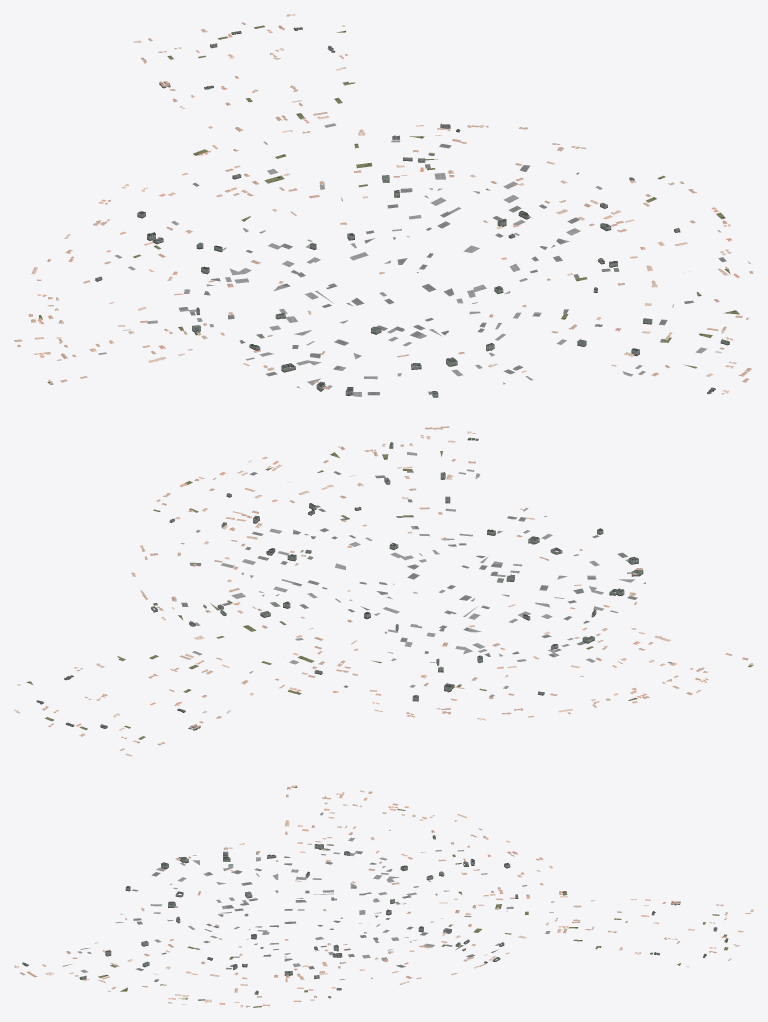
The model's file is city_3d_model_18.glb.
3 renders of one model, top to bottom at view 1: azimuth 30°, elevation 25°; view 2: azimuth 150°, elevation 25°; view 3: azimuth 270°, elevation 25°, orthographic. The views are drawn at different scales.
Visible parts, largest first — view 1: Object_274, Object_270, Object_272, Object_258, Object_256, Object_262, Object_266, Object_276, Object_260, Object_282; view 2: Object_274, Object_270, Object_272, Object_258, Object_262, Object_256, Object_266, Object_282, Object_260; view 3: Object_274, Object_270, Object_272, Object_262, Object_258, Object_260, Object_256, Object_266, Object_282.
Part boxes in pixels (left/top/right/bottom): Object_274: left=98, top=123, right=707, bottom=396; Object_270: left=95, top=27, right=729, bottom=397; Object_272: left=39, top=25, right=739, bottom=384; Object_258: left=190, top=143, right=726, bottom=370; Object_256: left=192, top=188, right=665, bottom=394; Object_262: left=60, top=25, right=751, bottom=382; Object_266: left=28, top=14, right=749, bottom=383; Object_276: left=178, top=164, right=579, bottom=395; Object_260: left=37, top=22, right=749, bottom=389; Object_282: left=31, top=54, right=736, bottom=376; Object_274: left=192, top=452, right=672, bottom=697; Object_270: left=36, top=437, right=643, bottom=730; Object_272: left=26, top=451, right=753, bottom=739; Object_258: left=180, top=471, right=596, bottom=687; Object_262: left=41, top=427, right=748, bottom=745; Object_256: left=257, top=470, right=637, bottom=645; Object_266: left=14, top=443, right=753, bottom=736; Object_282: left=96, top=435, right=654, bottom=720; Object_260: left=48, top=426, right=704, bottom=743; Object_274: left=77, top=812, right=553, bottom=980; Object_270: left=22, top=835, right=728, bottom=994; Object_272: left=62, top=786, right=728, bottom=1007; Object_262: left=31, top=787, right=723, bottom=1007; Object_258: left=135, top=853, right=527, bottom=1000; Object_260: left=19, top=797, right=739, bottom=990; Object_256: left=112, top=848, right=427, bottom=969; Object_266: left=83, top=785, right=743, bottom=997; Object_282: left=42, top=814, right=694, bottom=995.
Size of the model in its own units: 753 by 42.43 by 974.
14 materials, 14 textured.
